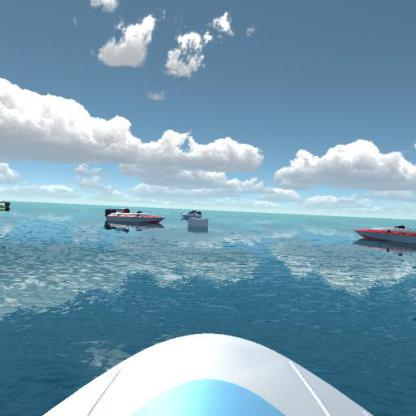usv1: (182, 205, 204, 223)
usv2: (0, 197, 12, 213)
usv3: (352, 216, 415, 254), (100, 204, 170, 230)
